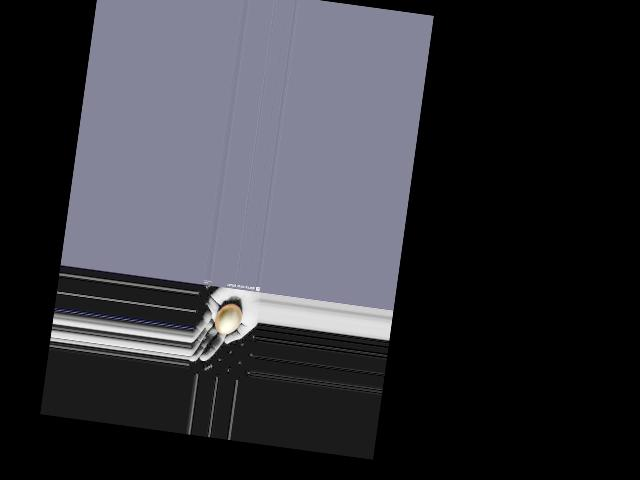egg: (213, 302, 242, 336)
